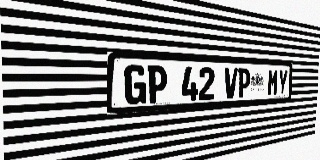2: (198, 67, 214, 100)
4: (181, 66, 199, 101)
G: (124, 64, 147, 105)
M: (267, 69, 278, 96)
P: (147, 65, 167, 104), (237, 68, 250, 98)
V: (224, 68, 238, 99)
Y: (277, 69, 288, 95)
